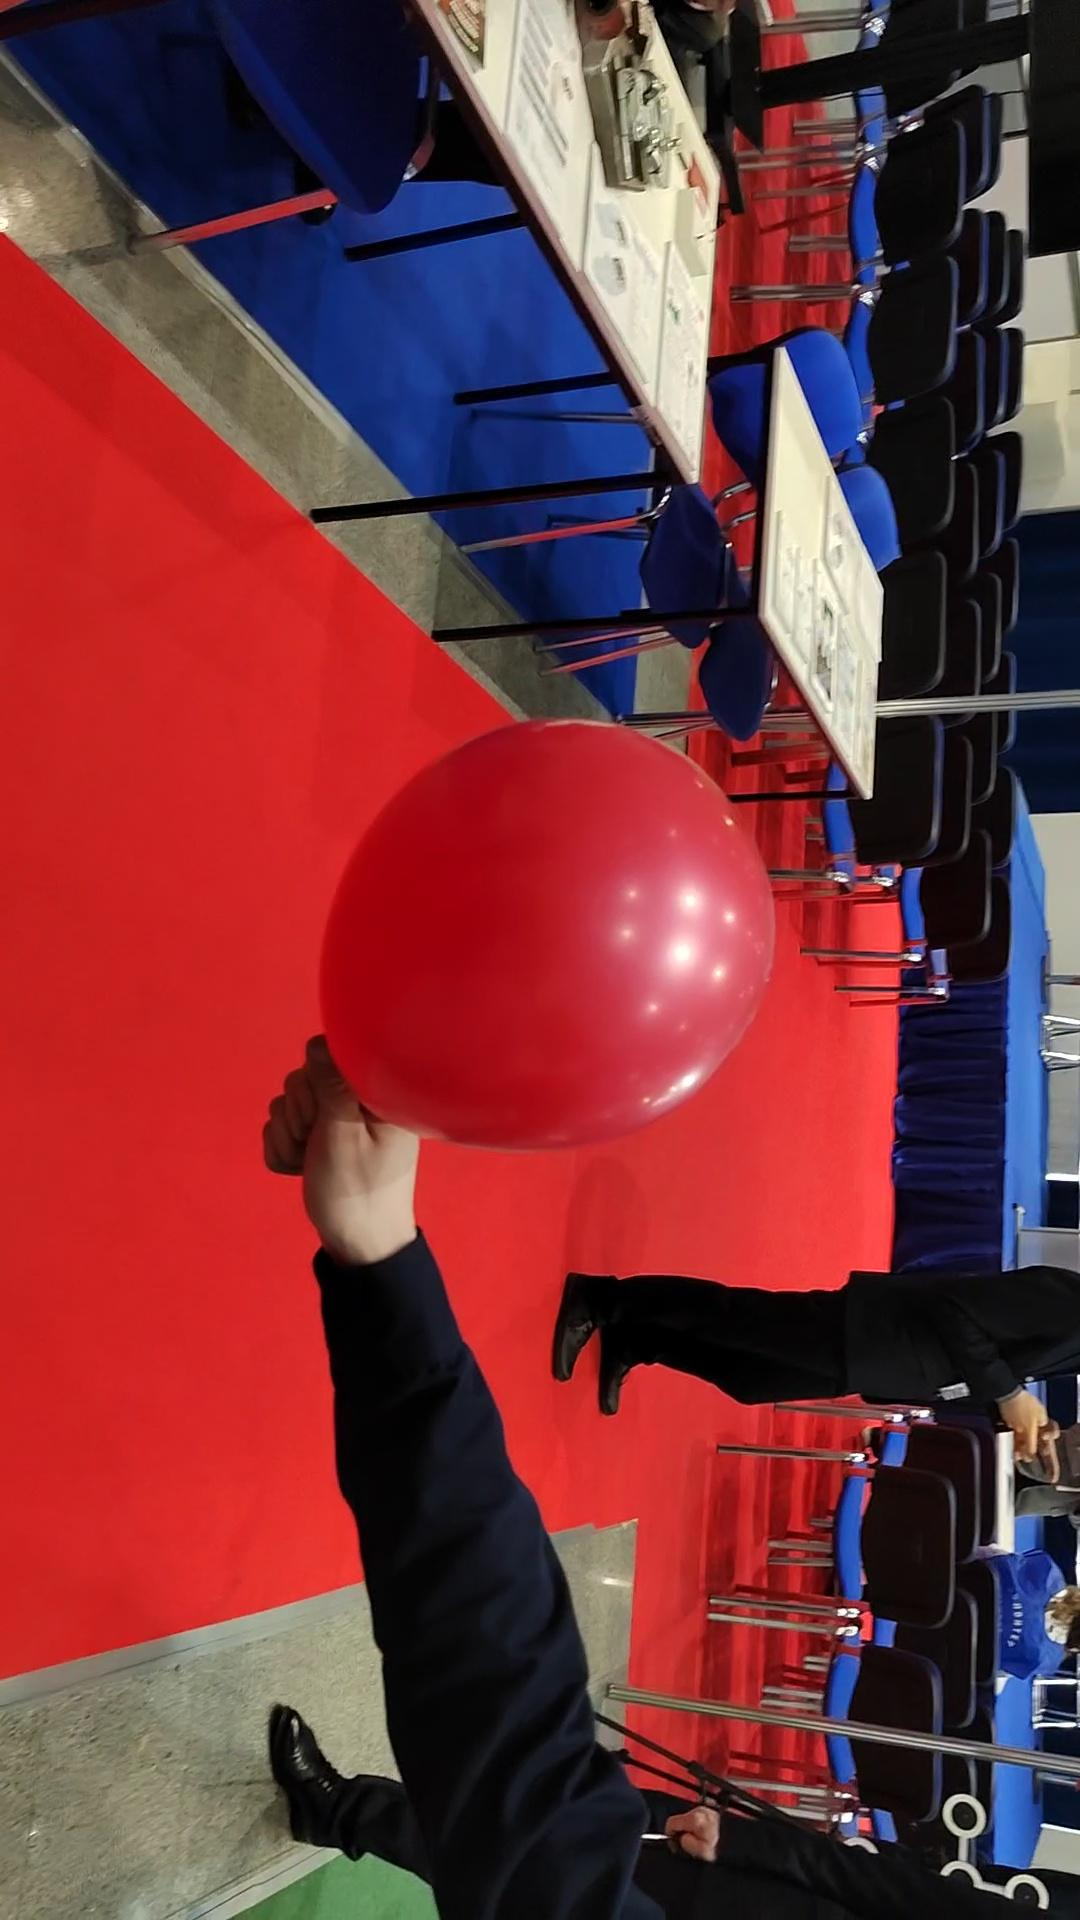red: (316, 711, 777, 1163)
